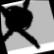not correct: (0, 0, 47, 54)
